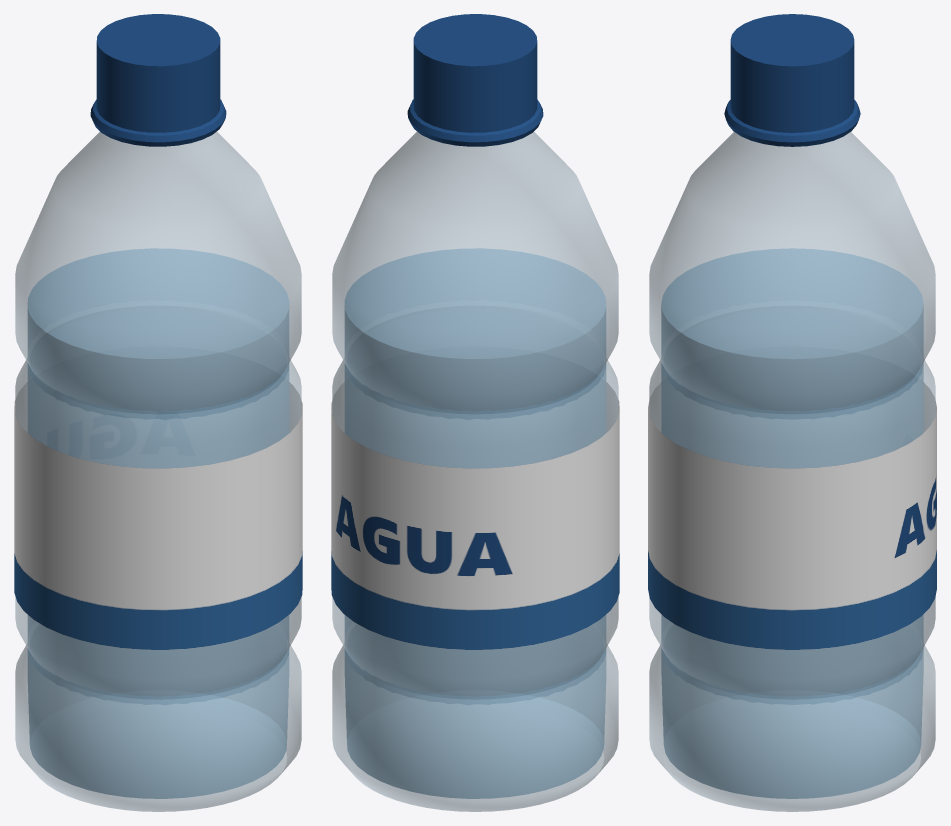
The model's file is agua.fbx.
The picture shows the model from 3 angles, left to right: view 1: azimuth 30°, elevation 25°; view 2: azimuth 150°, elevation 25°; view 3: azimuth 270°, elevation 25°; orthographic projection.
Parts seen in each view (by area): view 1: d7eaf6, 8fc1e3, etiqueta, 1f4e86, 1f4e86_02; view 2: d7eaf6, 8fc1e3, etiqueta, 1f4e86, 1f4e86_02; view 3: d7eaf6, 8fc1e3, etiqueta, 1f4e86, 1f4e86_02.
Part boxes in pixels (x1,y1,x2,y2): d7eaf6: (15,131,301,811); 8fc1e3: (27,248,289,798); etiqueta: (14,382,302,649); 1f4e86: (96,14,220,132); 1f4e86_02: (90,99,226,146); d7eaf6: (332,131,618,811); 8fc1e3: (344,248,606,798); etiqueta: (331,382,619,649); 1f4e86: (413,14,537,132); 1f4e86_02: (407,99,543,146); d7eaf6: (649,132,935,811); 8fc1e3: (661,248,923,798); etiqueta: (648,383,936,649); 1f4e86: (730,14,854,132); 1f4e86_02: (724,100,860,146).
Bounding box in the file's own units: 0.6389 × 1.75 × 0.6389.
Materials: 5 (1 with a texture image).
